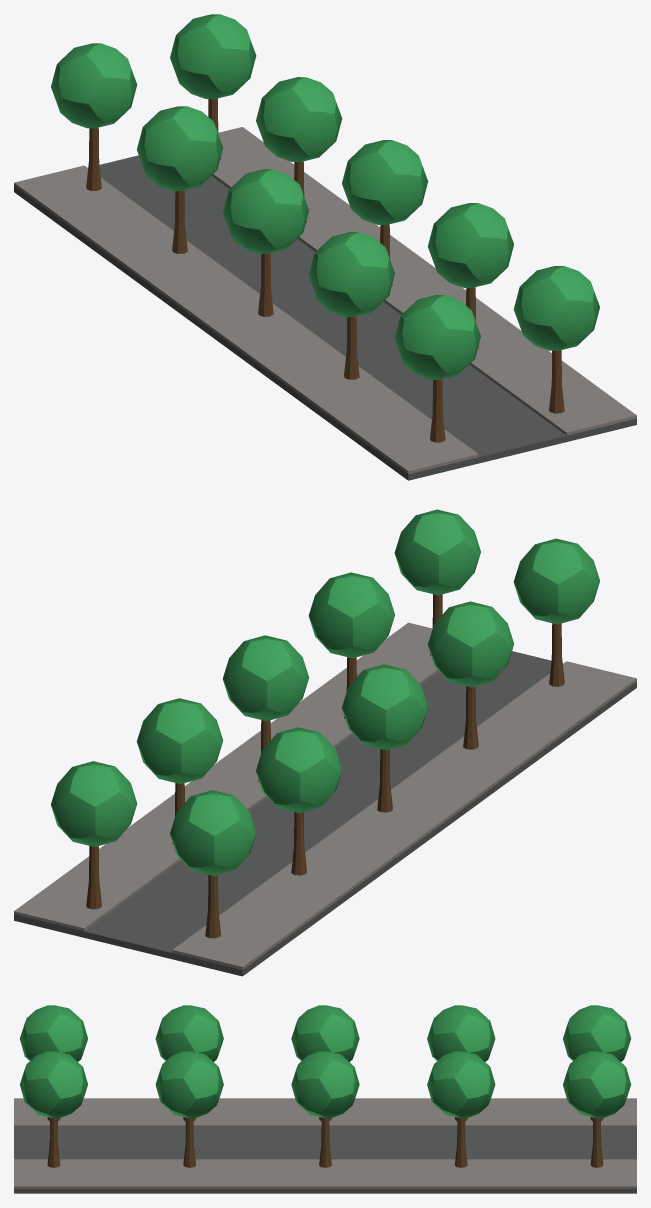
The model's file is Avenue.fbx.
3 renders of one model, top to bottom at view 1: azimuth 30°, elevation 25°; view 2: azimuth 150°, elevation 25°; view 3: azimuth 270°, elevation 25°, orthographic. The views are drawn at different scales.
Visible parts, largest first — view 1: pCube2; view 2: pCube2; view 3: pCube2.
Boxes of the visible parts, x1,y1,x2,y2 form: pCube2: (14, 14, 636, 480); pCube2: (14, 509, 636, 976); pCube2: (14, 1005, 636, 1193).
Size of the model in its own units: 7.68 by 4.84 by 22.94.
